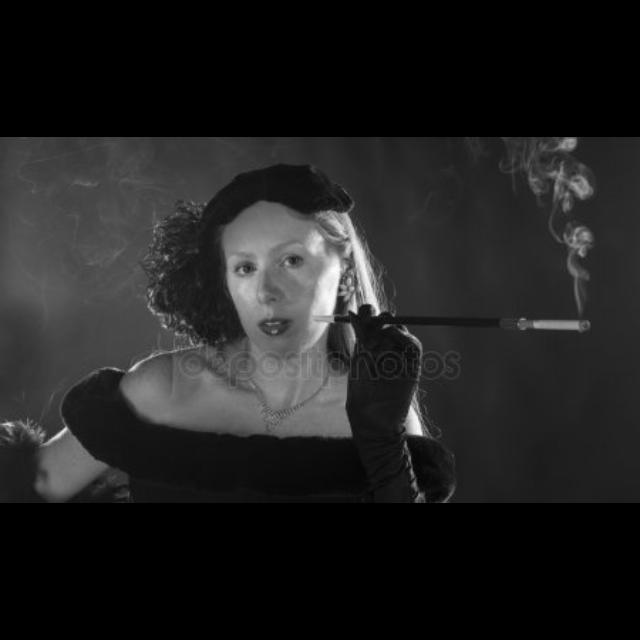rokok: (518, 314, 596, 340)
